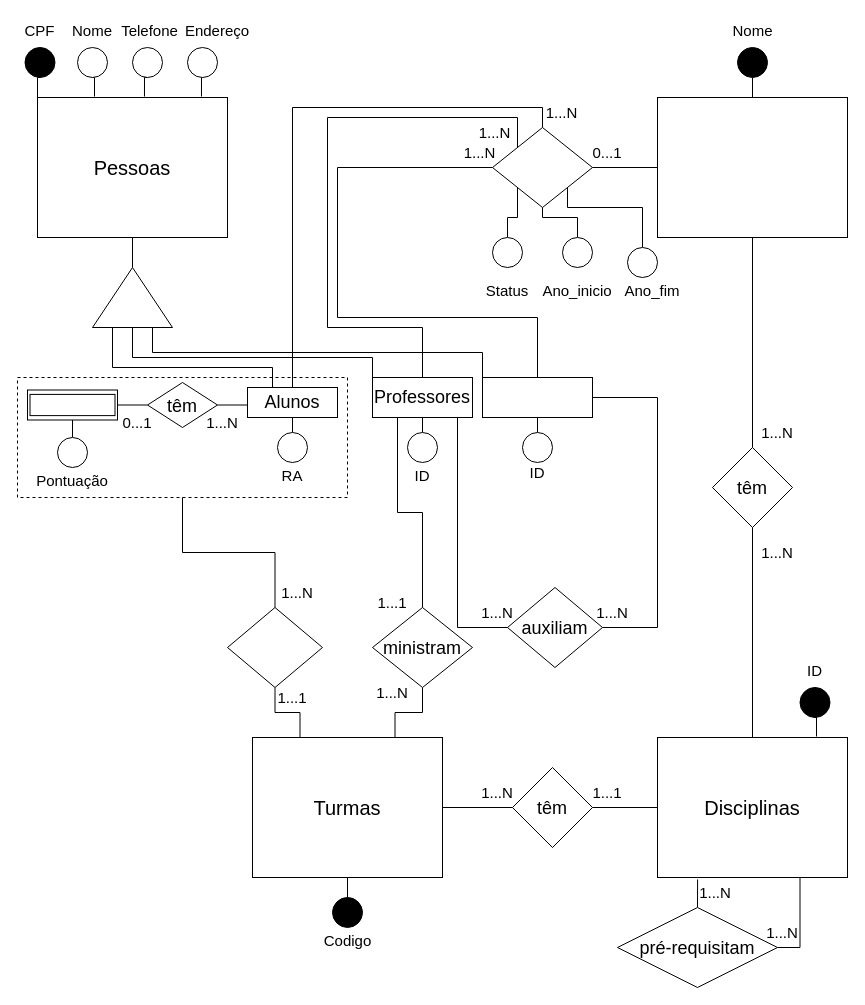
The diagram is 865 pixels wide and 1005 high, and some of its shapes have lost their labels. The box of each missing label's shape, as (x1, y1, x2, y2) in pixels:
Cursos: (656, 96, 848, 238)
Funcionários: (482, 376, 592, 418)
Inscrição: (492, 126, 592, 208)
matricula: (226, 606, 322, 688)
Notas: (26, 389, 118, 420)
